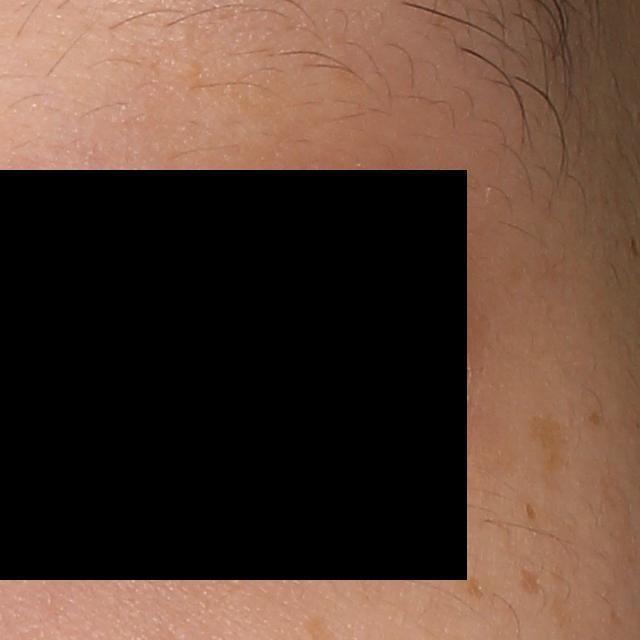melasma: (526, 413, 573, 479), (517, 565, 544, 601), (464, 573, 488, 601), (586, 407, 605, 427), (524, 501, 538, 522)
